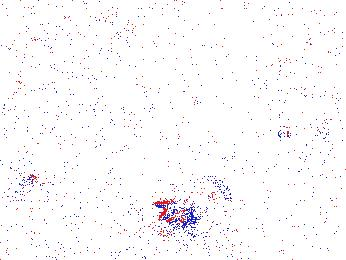flame jellyfish: (154, 172, 235, 226), (261, 65, 309, 138), (1, 163, 48, 214)
